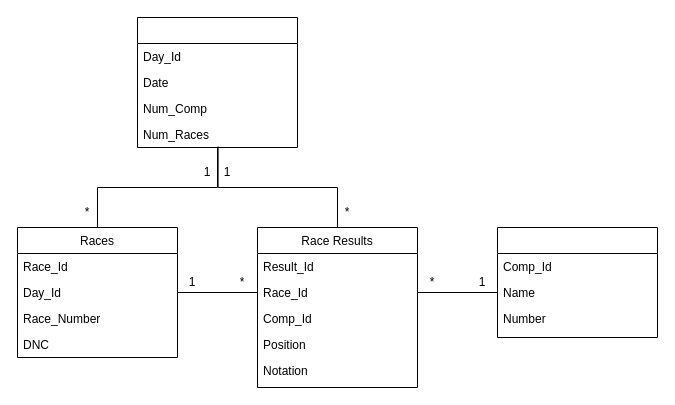
Some shapes in this 675 by 405 pixel diagram are drawn without their labels. The shapes that lost their labels are listed below. From the top down, each one's box as (x1, y1, x2, y2) in pixels, then its label:
(136, 16, 298, 148): Days
(496, 226, 658, 338): Competitors
